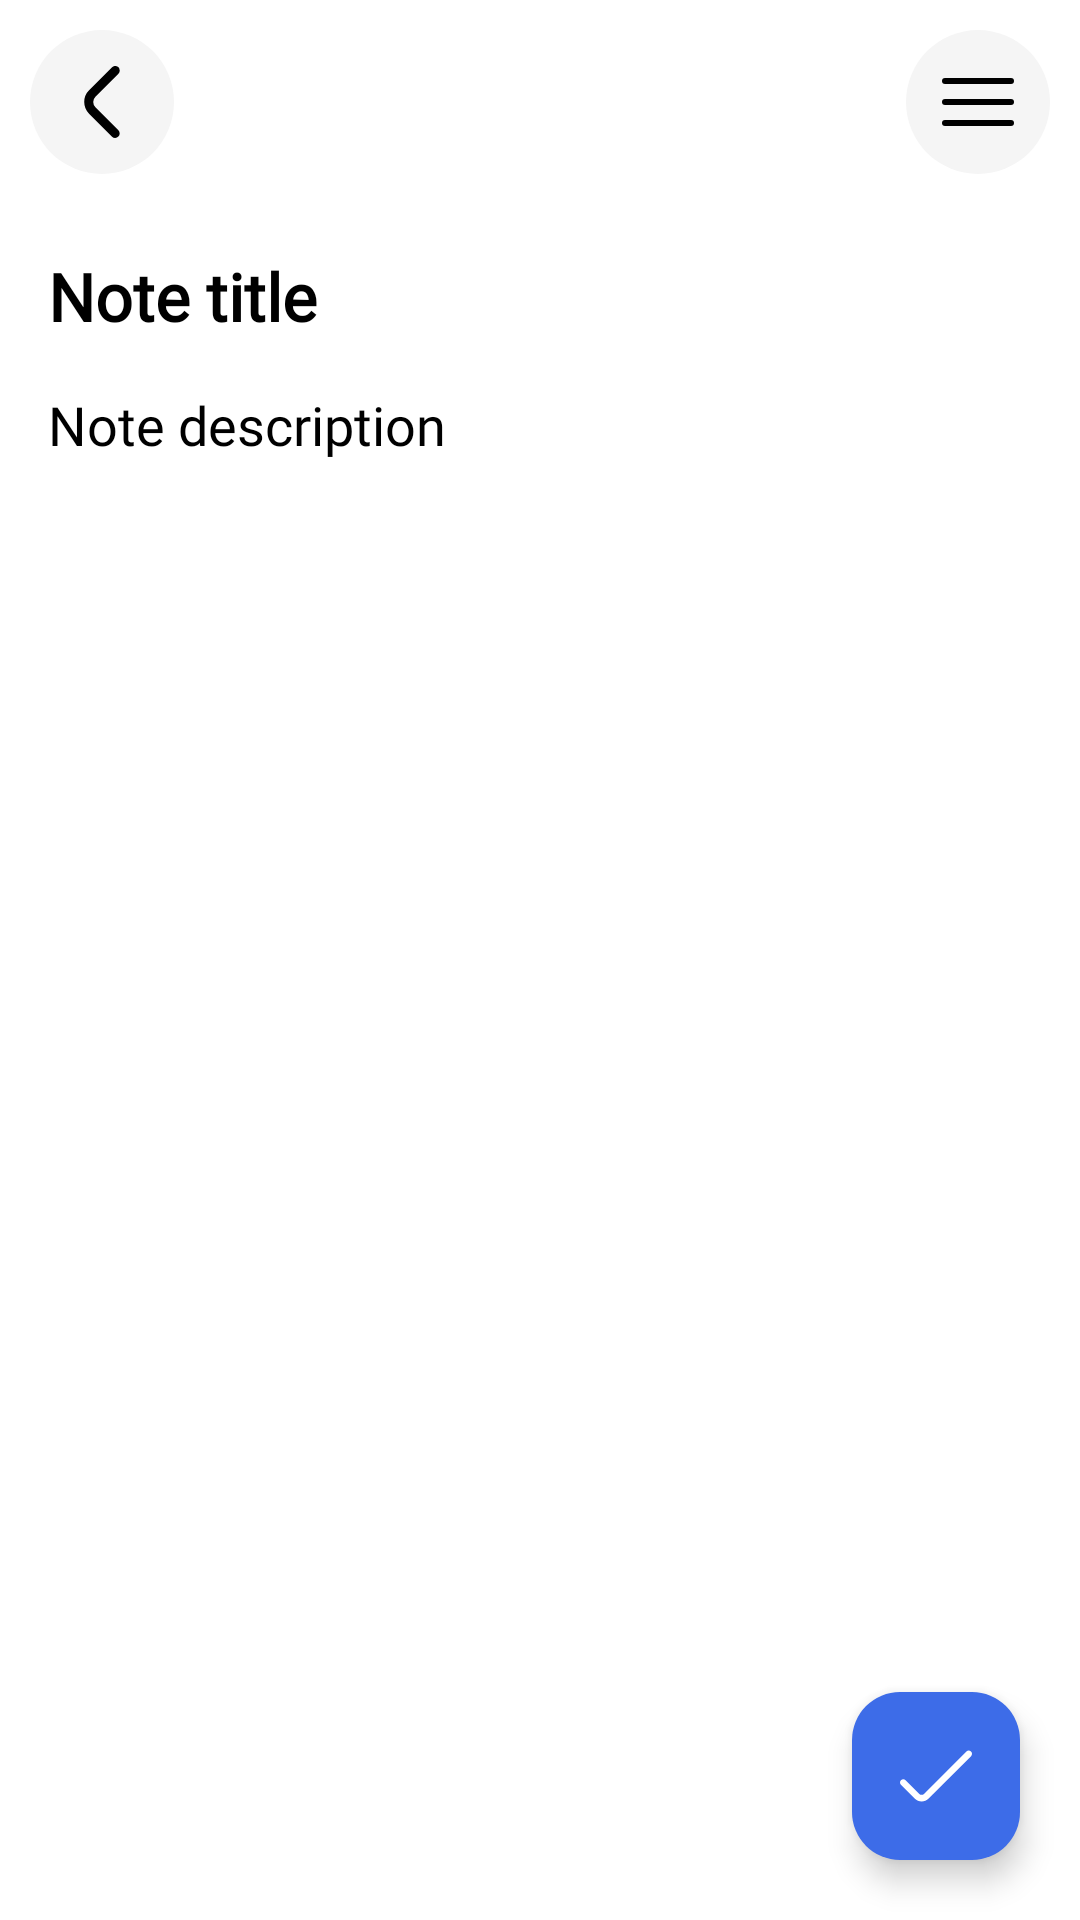

Point at icon controls on the screen. Image size 1080px x 1920px, points as (x=x, y=y).
Go Back: (x=102, y=102)
Save: (x=936, y=1776)
